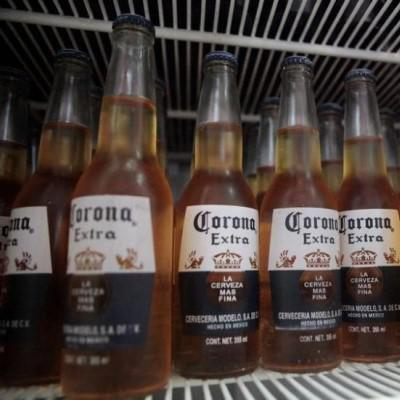beer: (2, 16, 400, 391)
